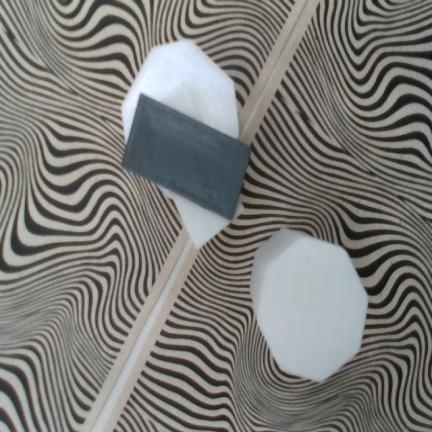Paralelepipedo: (137, 81, 245, 250), (122, 93, 252, 221)
Prisma_hexagonal: (249, 227, 369, 383), (122, 39, 239, 143)
